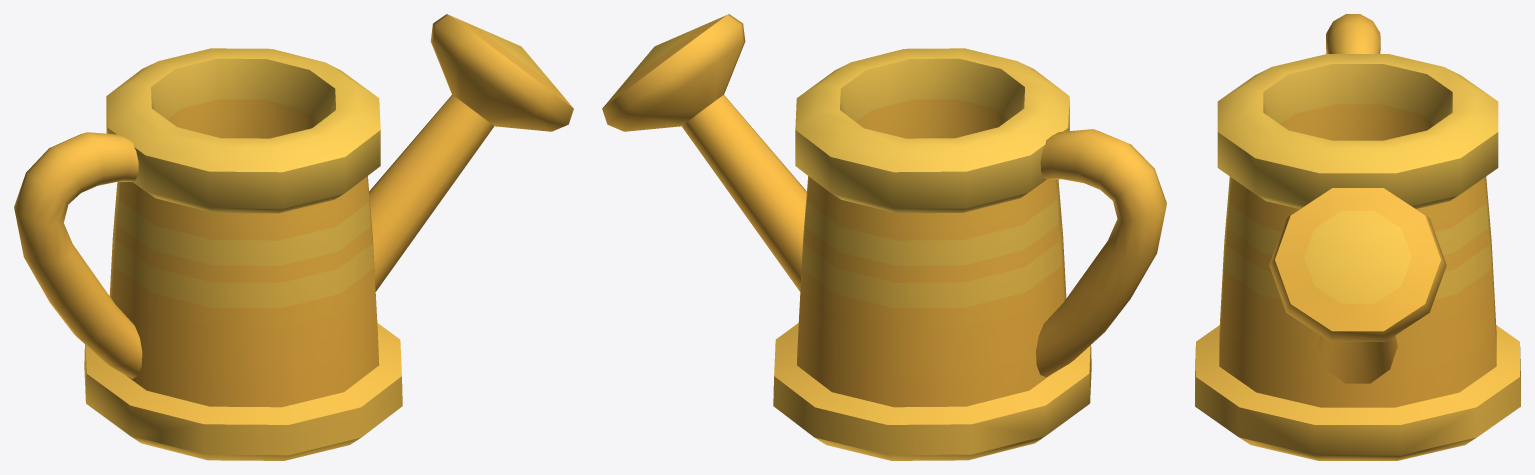
The model's file is watering-can.glb.
3 renders of one model, left to right at view 1: azimuth 30°, elevation 25°; view 2: azimuth 150°, elevation 25°; view 3: azimuth 270°, elevation 25°, orthographic.
Visible parts, largest first — view 1: watering_can_B; view 2: watering_can_B; view 3: watering_can_B.
Part boxes in pixels (x1,y1,x2,y2): watering_can_B: [14, 14, 573, 460]; watering_can_B: [602, 14, 1166, 460]; watering_can_B: [1195, 14, 1520, 460].
Size of the model in its own units: 0.5308 by 0.3 by 0.2769.
Materials: 1 (1 with a texture image).
